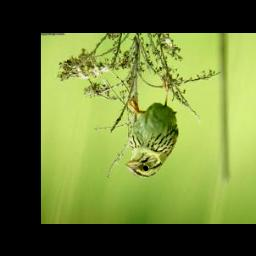Sparrow: (125, 76, 180, 178)
